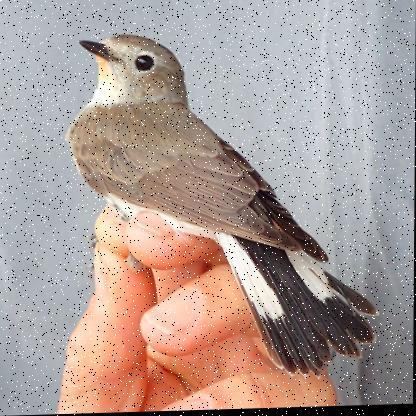Burung: (68, 27, 379, 384)
